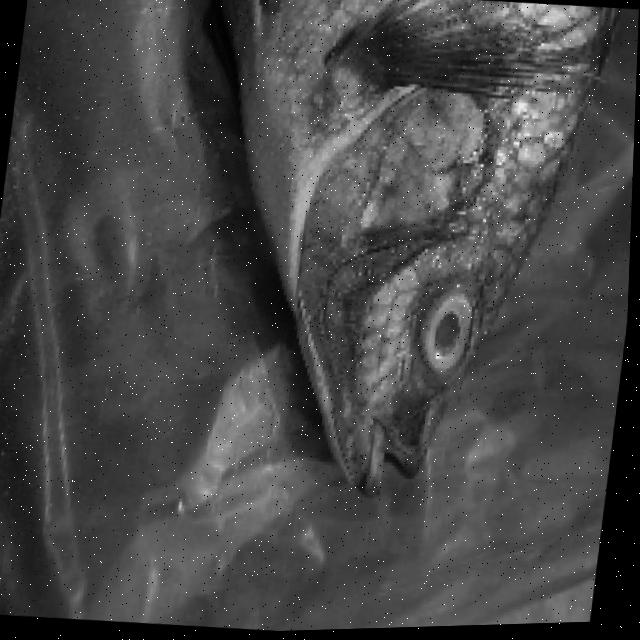Non-Fresh: (395, 263, 503, 395)
